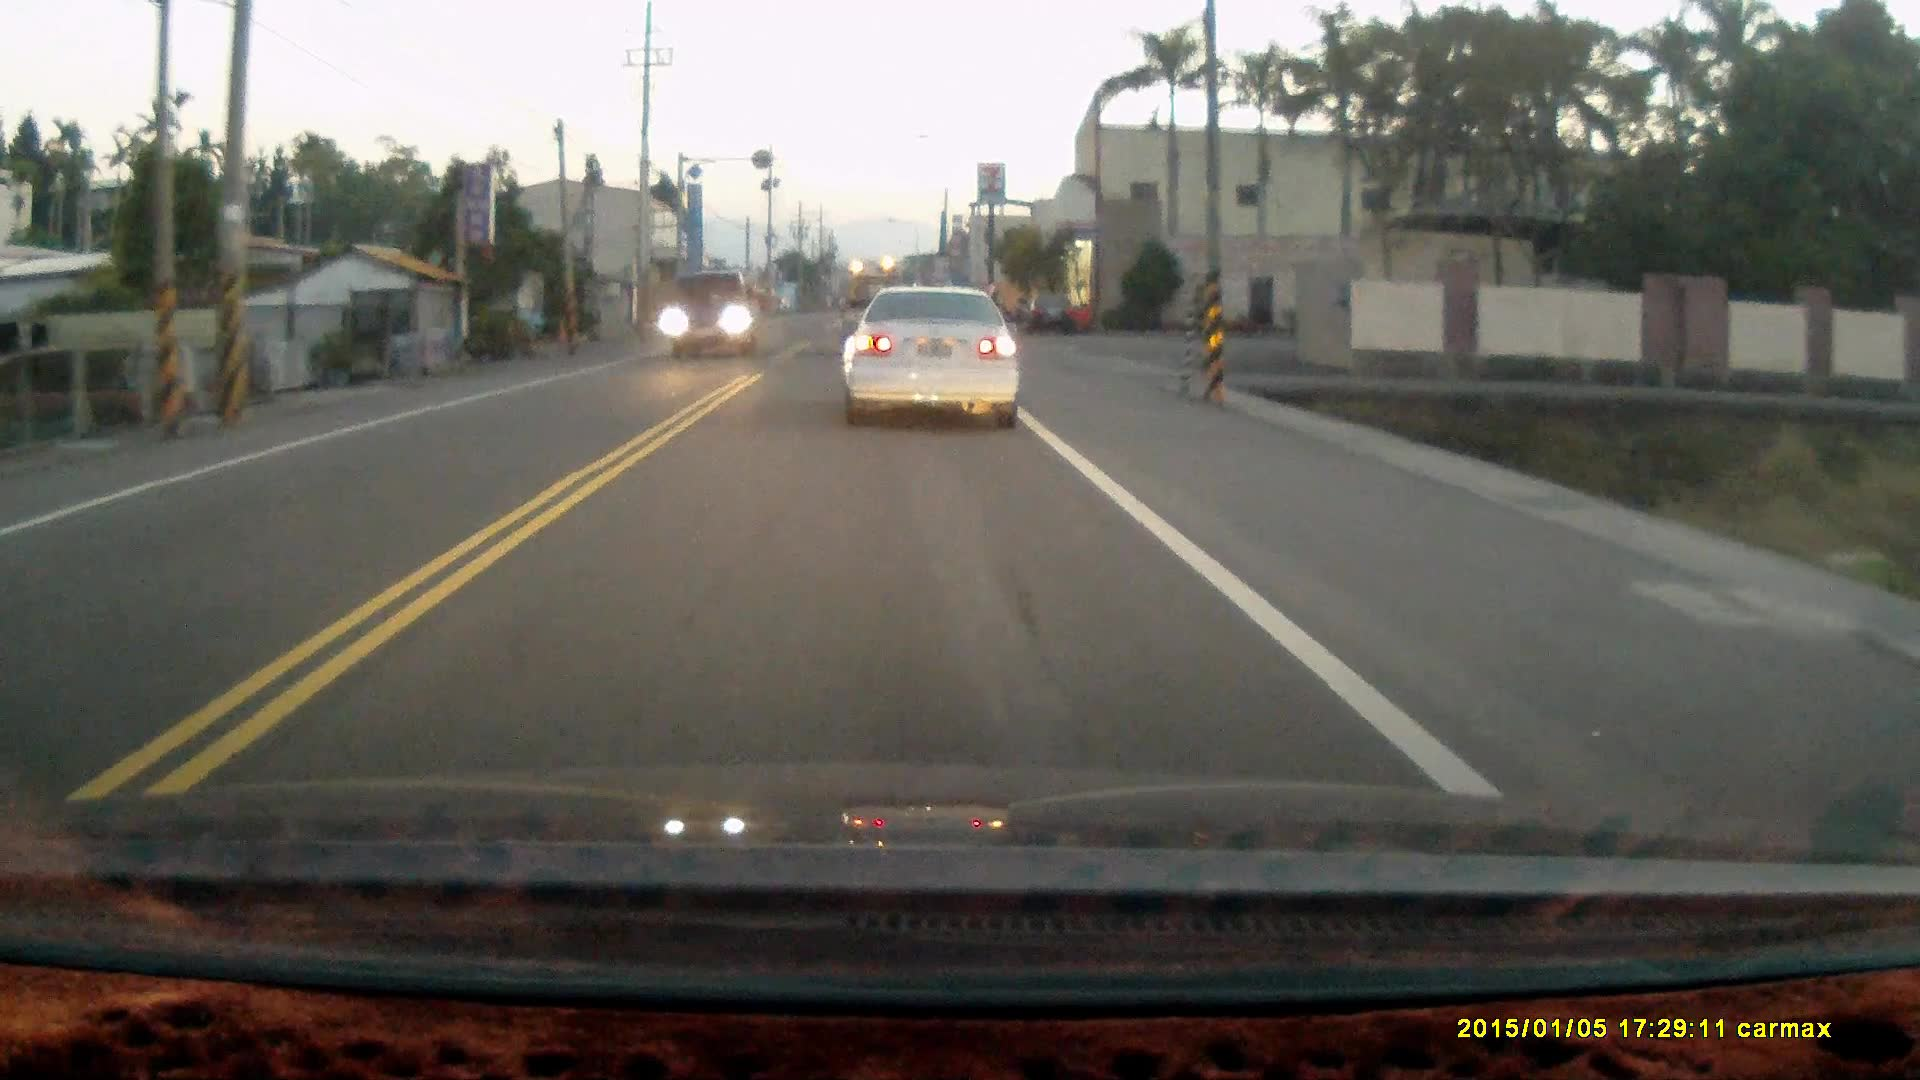vehicle: (847, 287, 1021, 433), (665, 272, 762, 367), (1023, 291, 1077, 339)
